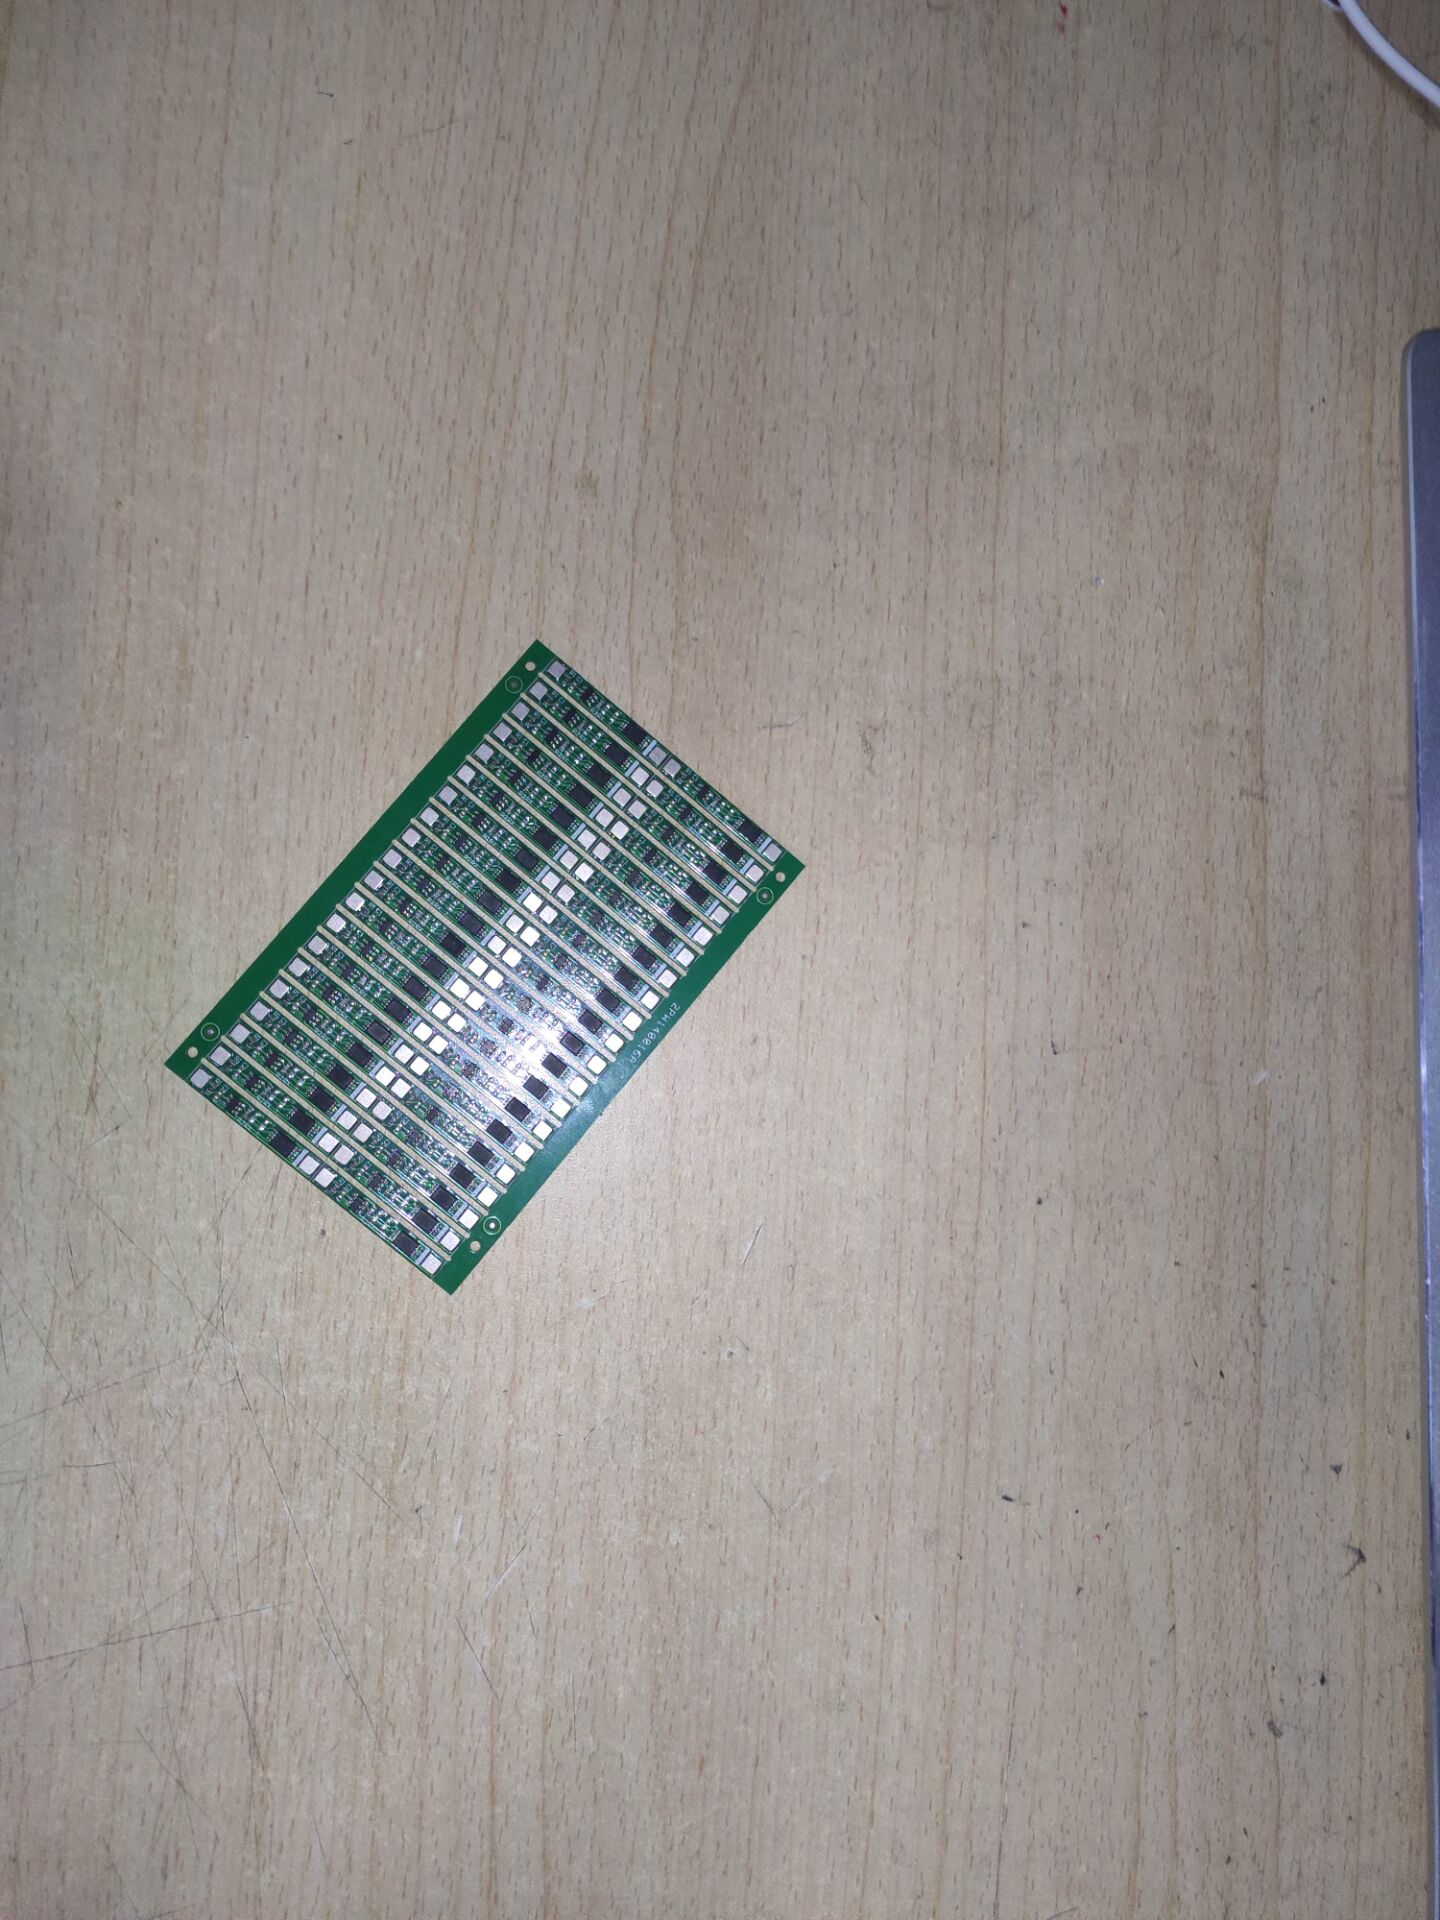point: (333, 1143, 355, 1165), (362, 870, 385, 890), (288, 956, 308, 979), (306, 936, 328, 957), (594, 806, 616, 828), (465, 989, 485, 1011), (621, 1010, 643, 1032), (602, 1033, 625, 1054), (586, 1054, 608, 1075), (550, 1097, 572, 1120), (456, 763, 477, 784), (381, 848, 403, 869), (228, 1022, 250, 1043), (209, 1046, 230, 1067), (430, 1000, 451, 1020), (375, 1065, 396, 1086), (353, 1121, 373, 1142), (420, 1253, 442, 1275), (400, 826, 419, 848), (370, 1099, 393, 1119), (269, 975, 288, 1000), (509, 701, 530, 722), (436, 784, 457, 805), (343, 891, 364, 910), (250, 1000, 269, 1020), (576, 829, 596, 850), (449, 980, 470, 1000), (318, 1133, 338, 1154), (501, 947, 522, 966), (483, 969, 503, 988), (447, 1012, 468, 1032), (390, 1078, 412, 1098), (568, 1076, 589, 1097), (514, 1142, 535, 1161), (458, 1209, 479, 1229), (429, 1033, 447, 1056), (492, 723, 512, 742), (473, 742, 493, 762), (419, 806, 439, 826), (612, 787, 632, 808), (299, 1155, 319, 1175), (574, 861, 593, 882), (640, 990, 659, 1010), (494, 1164, 514, 1183), (441, 1230, 461, 1251), (356, 1089, 376, 1107), (657, 970, 677, 989), (532, 1121, 553, 1139), (530, 681, 547, 700), (326, 913, 345, 933), (524, 893, 543, 912), (505, 913, 523, 933), (413, 1023, 432, 1042), (610, 819, 629, 838), (592, 840, 610, 860), (521, 925, 539, 945), (410, 1056, 429, 1074), (316, 1167, 336, 1186), (761, 843, 781, 861), (713, 906, 730, 925), (393, 1044, 414, 1062), (336, 1111, 357, 1128), (728, 886, 748, 903), (648, 746, 666, 764), (542, 873, 559, 890), (469, 960, 487, 978), (538, 905, 557, 923), (694, 928, 712, 946), (191, 1070, 210, 1087), (675, 949, 695, 966), (478, 1187, 495, 1206), (558, 851, 579, 867), (485, 937, 507, 953), (548, 662, 566, 679), (632, 766, 649, 784), (664, 758, 680, 776), (646, 779, 662, 797), (557, 885, 574, 903), (745, 865, 764, 881), (629, 799, 645, 817)
